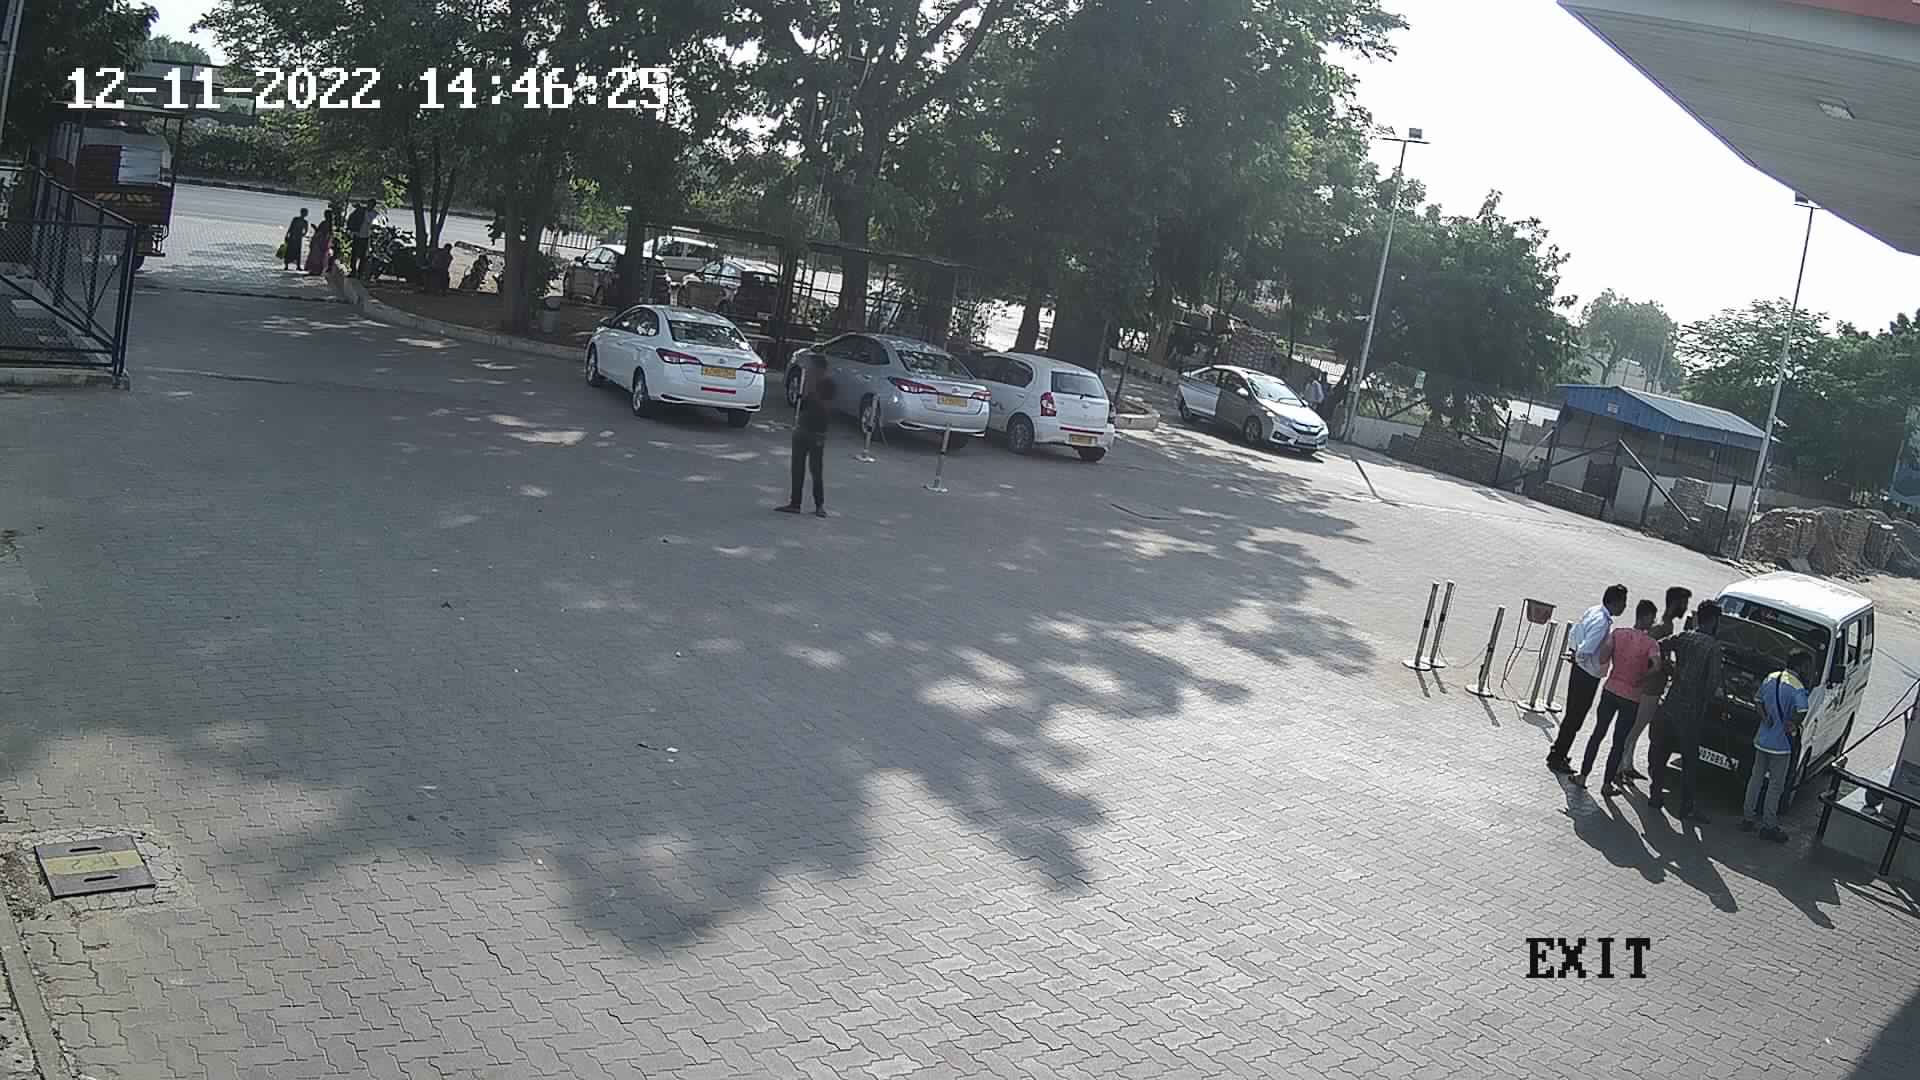Car: (1633, 542, 1884, 832), (781, 320, 1000, 458), (574, 285, 781, 427), (951, 330, 1126, 477), (1159, 344, 1337, 462), (671, 253, 791, 328), (550, 233, 634, 307), (641, 225, 729, 293)
HMV: (5, 55, 225, 299)
Others: (1722, 641, 1820, 845)
